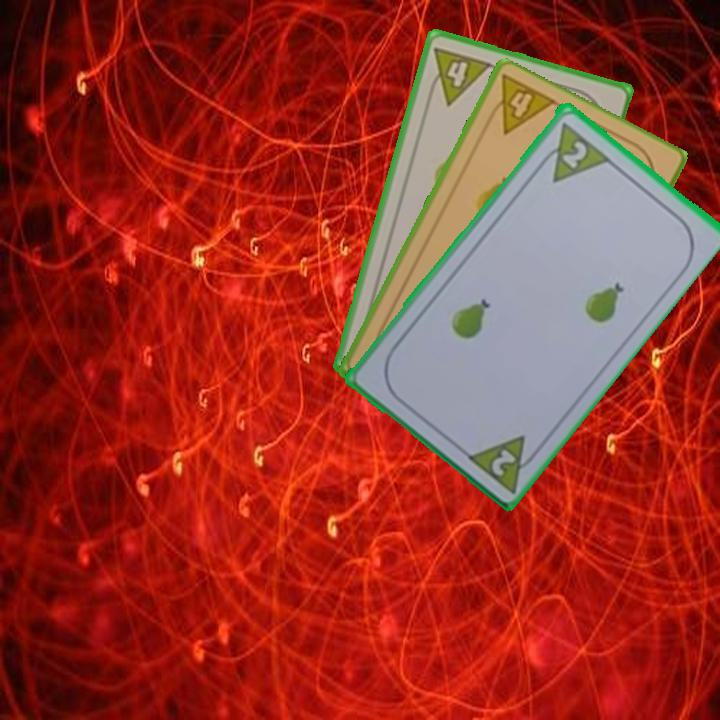2p: (461, 430, 545, 495), (558, 136, 590, 171)
4p: (480, 71, 559, 138), (423, 43, 495, 108)
